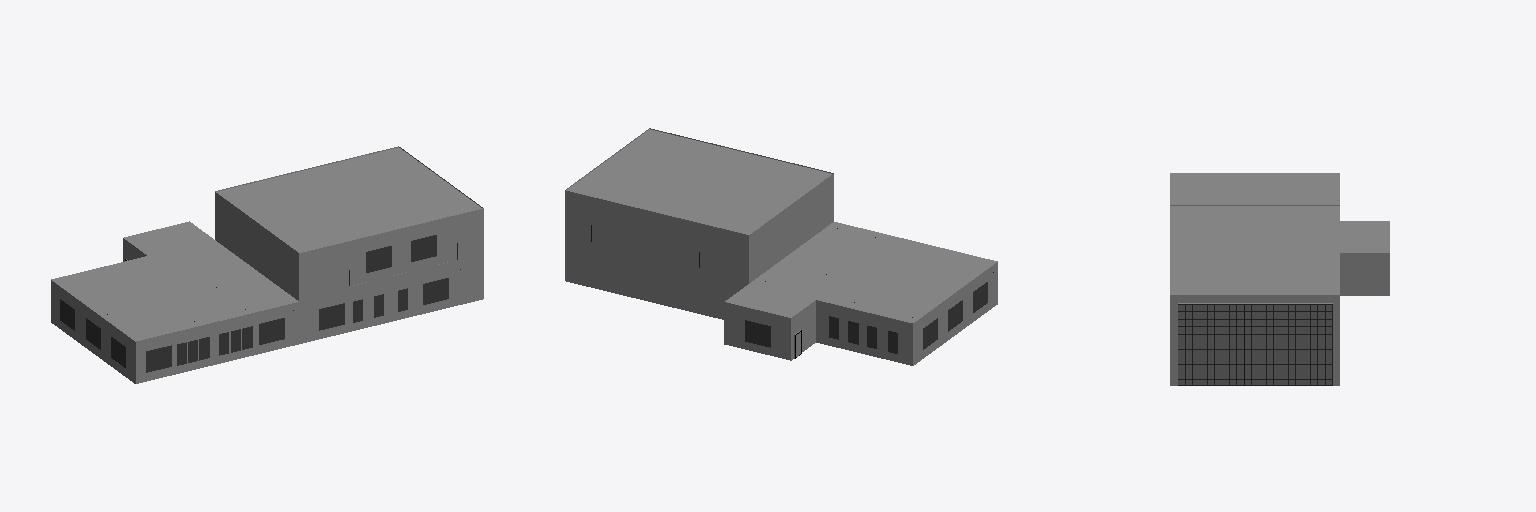
3 renders of one model, left to right at view 1: azimuth 30°, elevation 25°; view 2: azimuth 150°, elevation 25°; view 3: azimuth 270°, elevation 25°, orthographic.
Parts seen in each view (by area): view 1: Walls, Roof_002, Roof_001, Art_Work_Frame_26, Art_Work_Frame_28, Art_Work_Frame_01, Art_Work_Frame_27, Art_Work_Frame_02, Art_Work_Frame_29; view 2: Walls, Roof_002, Roof_001, Art_Work_Frame_09; view 3: Roof_001, Window, Roof_002, Walls.
Part boxes in pixels (bbox=[...]): Walls: bbox=[51, 146, 483, 383]; Roof_002: bbox=[51, 221, 298, 341]; Roof_001: bbox=[216, 147, 482, 252]; Art_Work_Frame_26: bbox=[146, 345, 171, 372]; Art_Work_Frame_28: bbox=[319, 303, 344, 330]; Art_Work_Frame_01: bbox=[411, 235, 436, 261]; Art_Work_Frame_27: bbox=[259, 318, 284, 344]; Art_Work_Frame_02: bbox=[366, 246, 391, 272]; Art_Work_Frame_29: bbox=[423, 278, 448, 304]; Walls: bbox=[565, 128, 997, 365]; Roof_002: bbox=[725, 222, 997, 322]; Roof_001: bbox=[566, 129, 831, 234]; Art_Work_Frame_09: bbox=[745, 320, 770, 347]; Roof_001: bbox=[1170, 206, 1339, 294]; Window: bbox=[1178, 304, 1332, 385]; Roof_002: bbox=[1170, 173, 1389, 252]; Walls: bbox=[1170, 205, 1389, 385].
Bounding box in the file's own units: 3415 × 846 × 1855.
Materials: 36 (32 with a texture image).